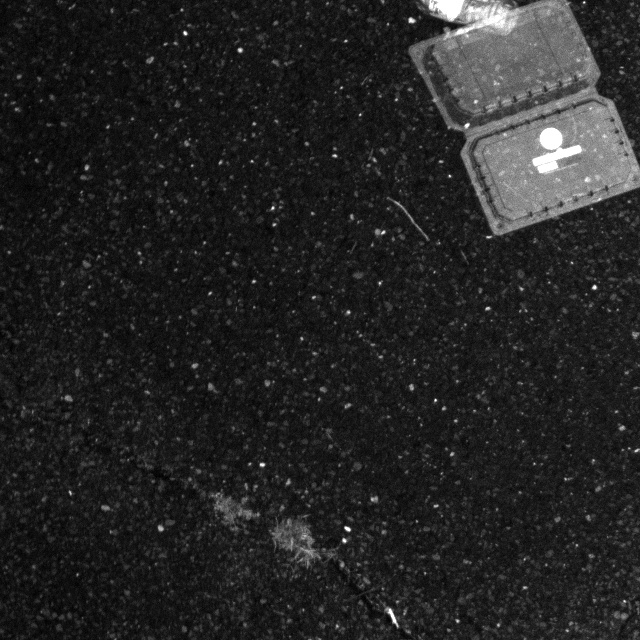container: (415, 0, 640, 235)
